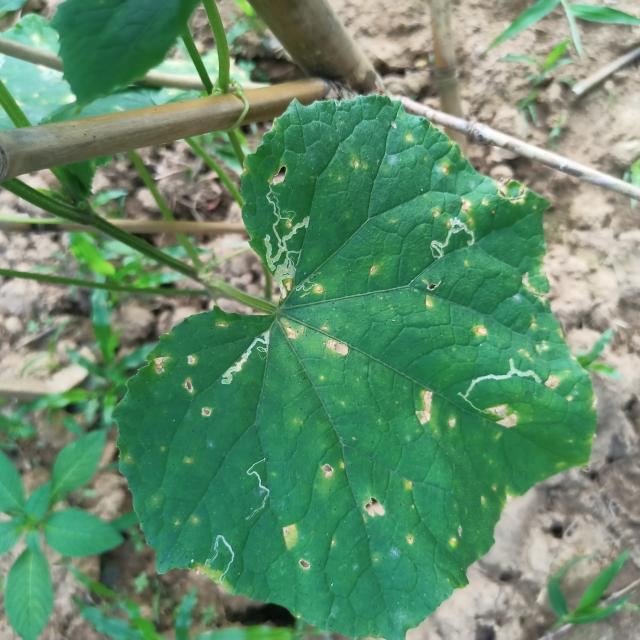disease_cucumber: (280, 454, 432, 574), (338, 122, 455, 184), (150, 351, 217, 422), (476, 307, 562, 359), (406, 382, 461, 437), (281, 320, 351, 362), (545, 365, 588, 409), (489, 399, 524, 433)
